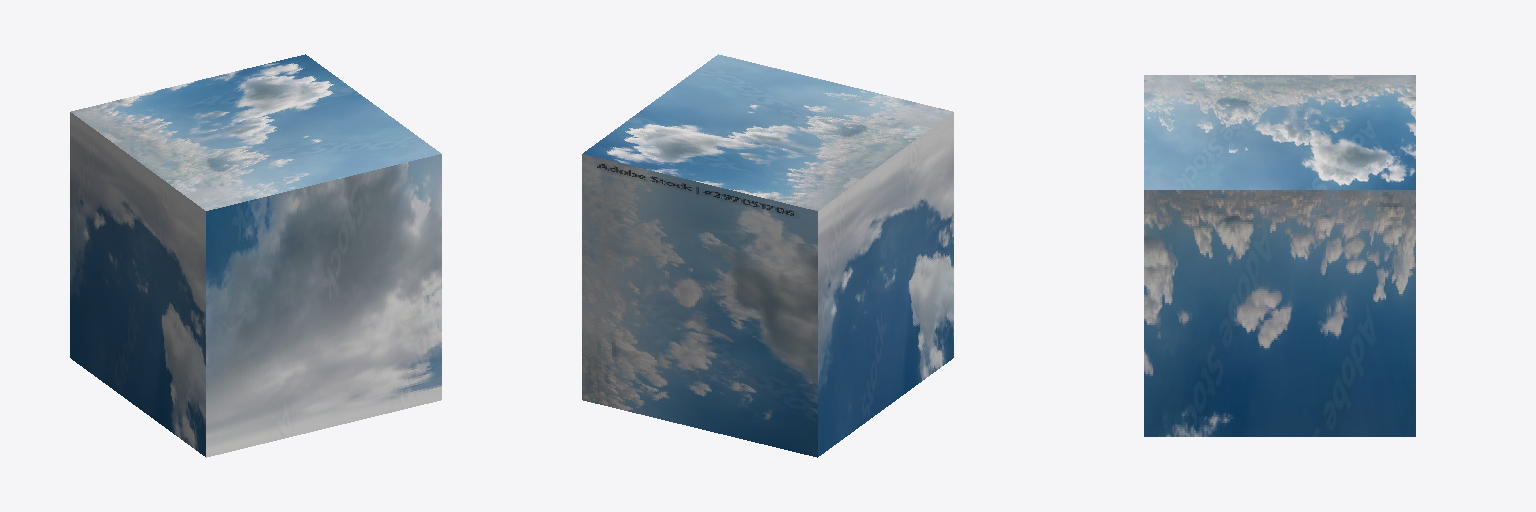
3 views of the same model, side by side, from view 1: azimuth 30°, elevation 25°; view 2: azimuth 150°, elevation 25°; view 3: azimuth 270°, elevation 25° (orthographic).
Visible parts, largest first — view 1: Cube; view 2: Cube; view 3: Cube.
Part boxes in pixels (left/top/right/bottom): Cube: left=70, top=54, right=441, bottom=457; Cube: left=582, top=54, right=953, bottom=457; Cube: left=1144, top=75, right=1415, bottom=436.
Bounding box in the file's own units: 2 × 2 × 2.
Materials: 1 (1 with a texture image).